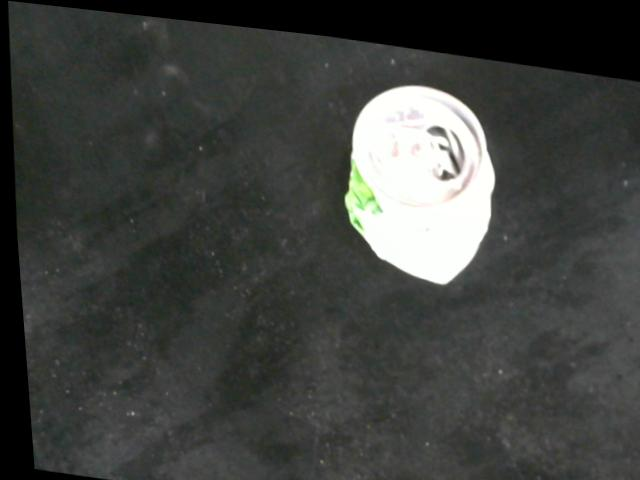can: (336, 66, 502, 280)
